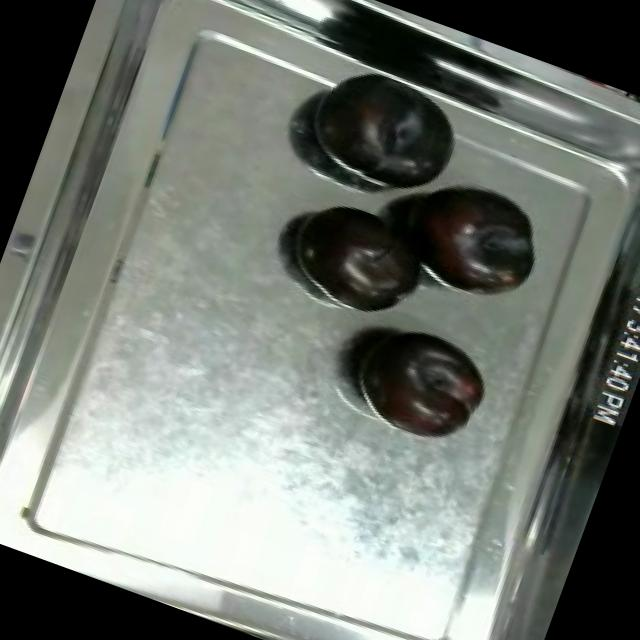Fruit: (292, 52, 478, 212), (333, 306, 503, 456), (393, 165, 558, 316), (274, 182, 442, 324)
